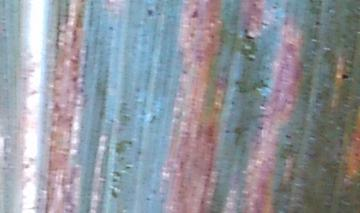tarspot: (110, 185, 117, 201), (339, 72, 350, 81), (190, 7, 199, 18), (110, 168, 121, 177), (146, 8, 154, 18), (148, 114, 156, 123), (258, 101, 266, 109), (136, 148, 143, 157), (209, 32, 216, 40), (110, 177, 119, 183), (123, 164, 132, 170), (313, 19, 320, 26), (284, 133, 292, 139), (224, 128, 230, 136), (106, 25, 113, 31), (126, 140, 133, 146), (144, 196, 151, 202), (151, 189, 158, 195)
